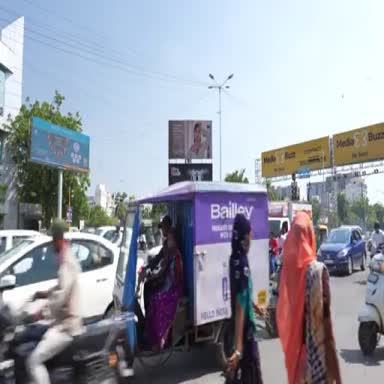Car: (64, 233, 119, 322), (317, 226, 366, 274), (0, 230, 41, 254), (94, 226, 116, 241)
